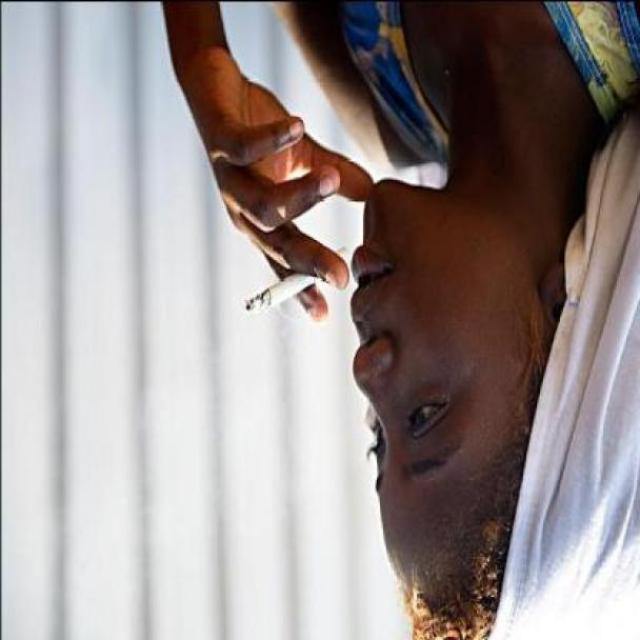rokok: (240, 264, 328, 314)
